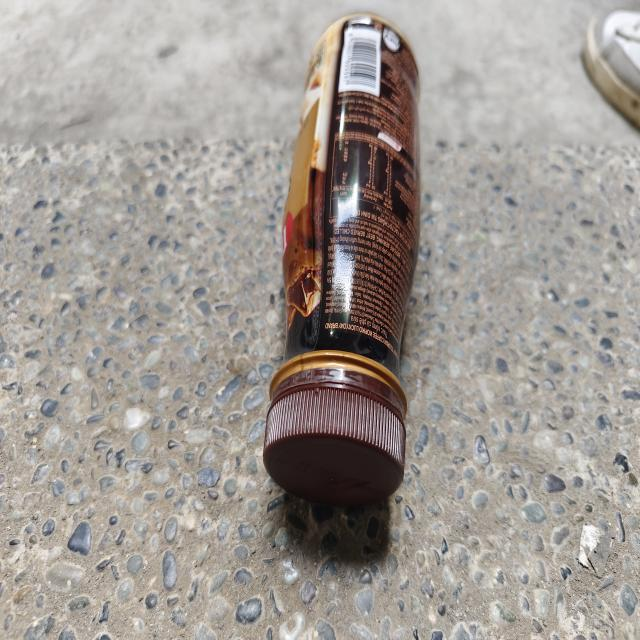Bottle: (263, 15, 420, 506)
